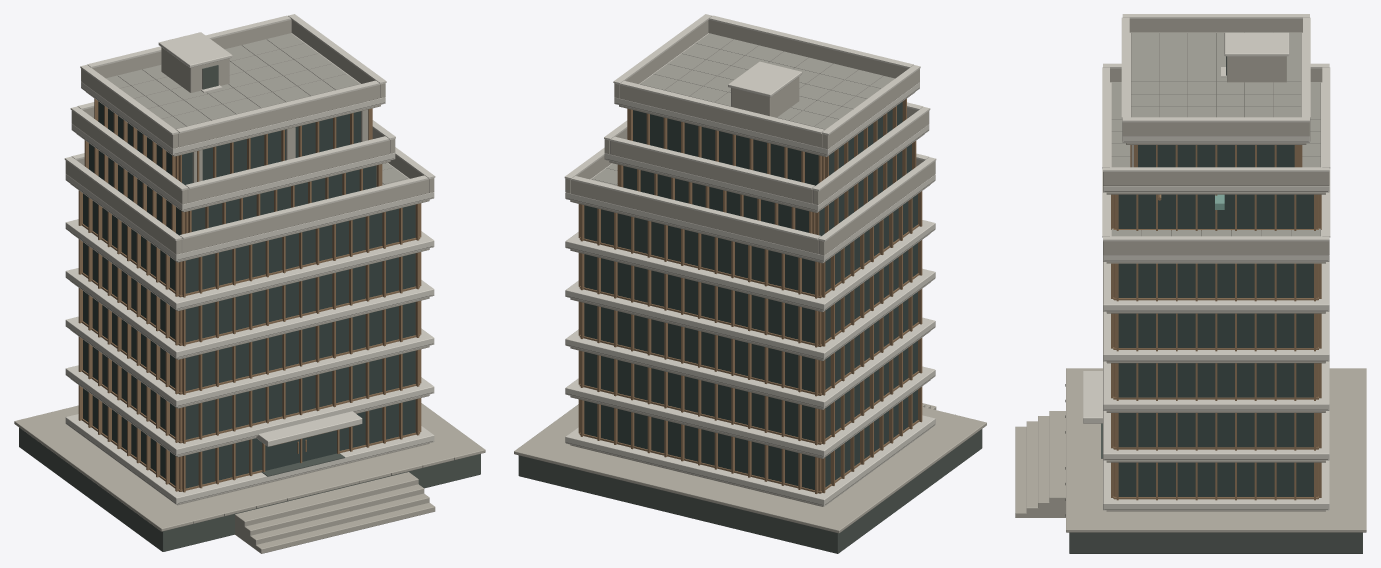
File: formwork-pavilion.glb
3 views of the same model, side by side, from view 1: azimuth 30°, elevation 25°; view 2: azimuth 150°, elevation 25°; view 3: azimuth 270°, elevation 25° (orthographic). The views are drawn at different scales.
Visible parts, largest first — view 1: base_-1, structure_7, facade_1, facade_2, facade_3, facade_4, structure_5, facade_0, structure_6, facade_6, facade_5, structure_1 (+4 smaller); view 2: structure_7, base_-1, facade_4, facade_0, facade_1, facade_3, facade_2, structure_5, structure_6, facade_6, facade_5, structure_2 (+4 smaller); view 3: base_-1, structure_7, structure_6, structure_5, facade_0, facade_4, facade_3, facade_1, facade_2, facade_5, structure_1, facade_6 (+4 smaller).
Boxes of the visible parts, x1,y1,x2,y2 form: base_-1: (14,403,485,553); structure_7: (80,14,386,156); facade_1: (78,336,421,443); facade_2: (78,288,421,394); facade_3: (78,239,421,346); facade_4: (78,190,421,297); structure_5: (64,147,435,262); facade_0: (78,385,421,492); structure_6: (70,102,395,212); facade_6: (94,98,372,185); facade_5: (84,140,382,235); structure_1: (65,365,434,457); structure_7: (613,14,920,157); base_-1: (514,403,986,553); facade_4: (578,191,922,298); facade_0: (578,386,922,493); facade_1: (578,338,922,445); facade_3: (578,240,922,347); facade_2: (578,289,922,396); structure_5: (564,147,936,263); structure_6: (604,102,930,212); facade_6: (627,98,906,185); facade_5: (617,141,916,235); structure_2: (565,317,935,409); base_-1: (1015,368,1366,553); structure_7: (1121,14,1310,144); structure_6: (1102,63,1330,194); structure_5: (1102,168,1330,263); facade_0: (1111,462,1321,500); facade_4: (1111,263,1321,301); facade_3: (1111,313,1321,351); facade_1: (1111,413,1321,450); facade_2: (1111,363,1321,400); facade_5: (1111,194,1321,230); structure_1: (1083,371,1329,462); facade_6: (1130,145,1302,167).
Bounding box in the file's own units: 10.8 × 12.93 × 9.93.
